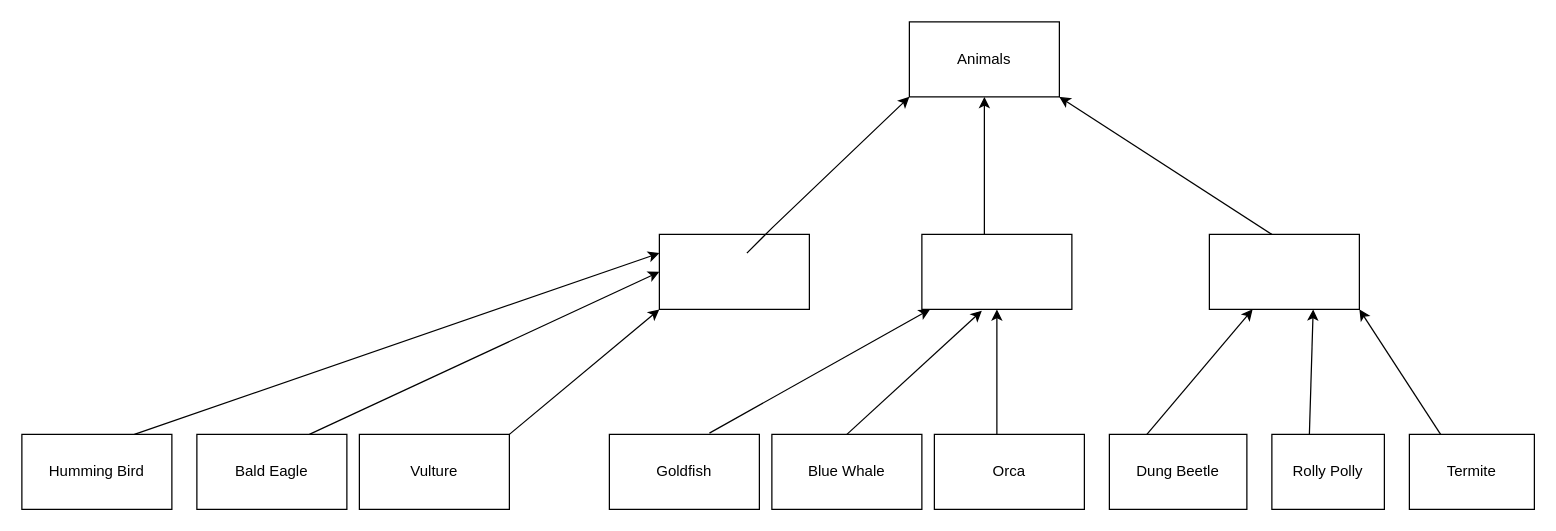
The diagram is 1556 pixels wide and 531 high, and some of its shapes have lost their labels. The shapes that lost their labels are listed below. From the top down, each one's centre as x and y in pixels, then its label:
At pixel 733 271: "Birds".
At pixel 996 271: "Fish".
At pixel 1283 271: "Insects".
